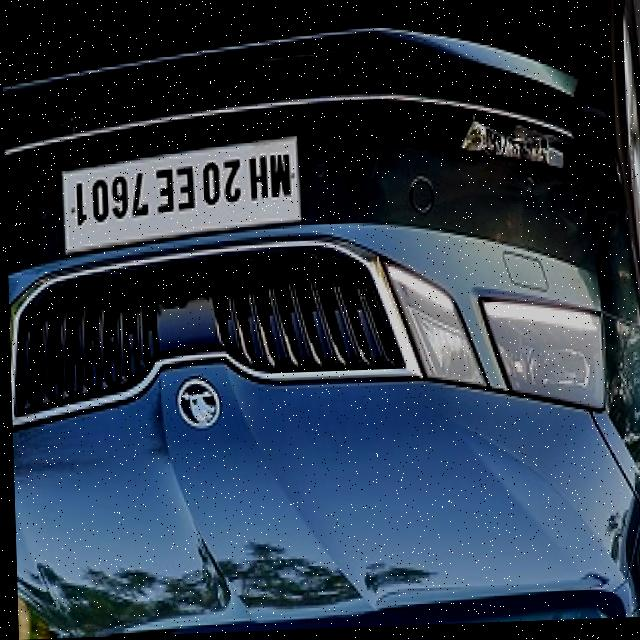plate: (56, 138, 306, 261)
